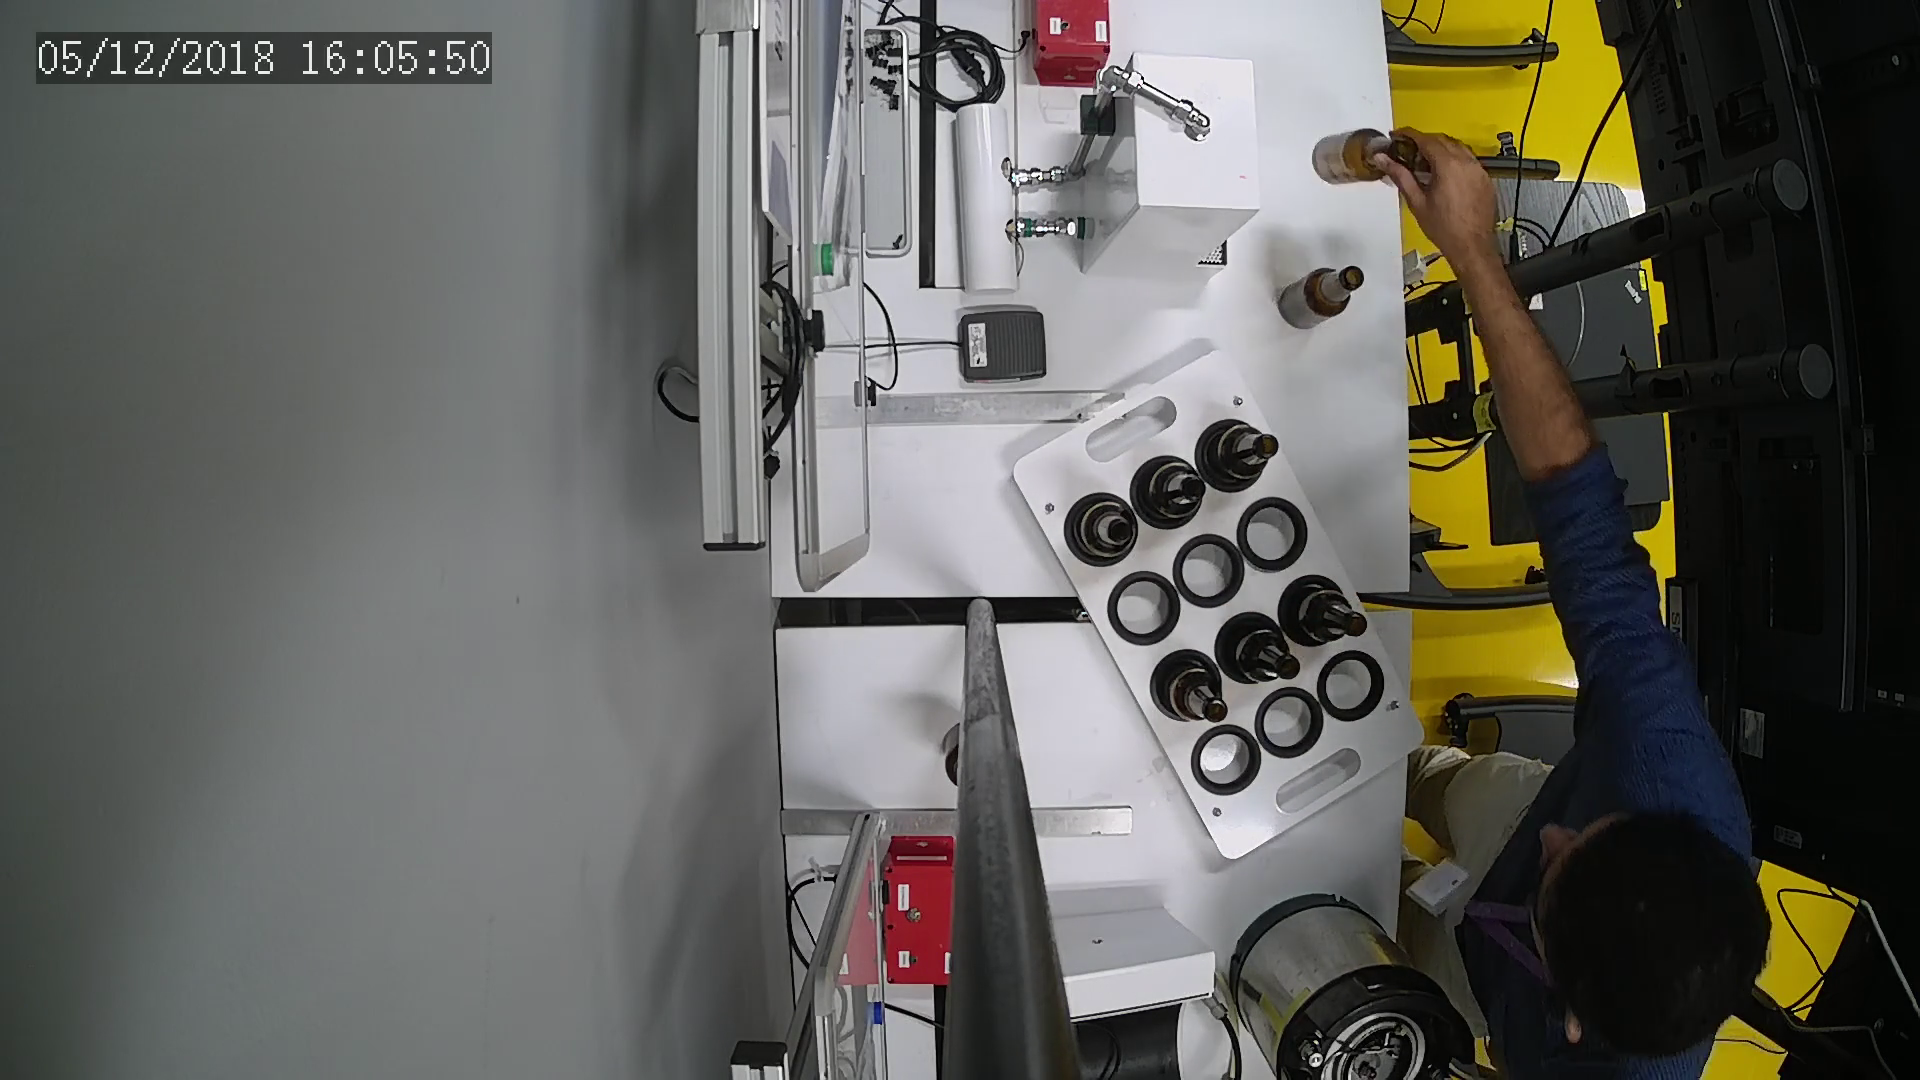filled_bottle: (1147, 651, 1233, 732), (1276, 582, 1370, 647), (1197, 418, 1283, 488), (1220, 616, 1302, 688), (1065, 495, 1143, 568), (1133, 454, 1208, 527)
trolley: (1014, 347, 1431, 862)
unfilled_bottle: (1278, 262, 1366, 332)
